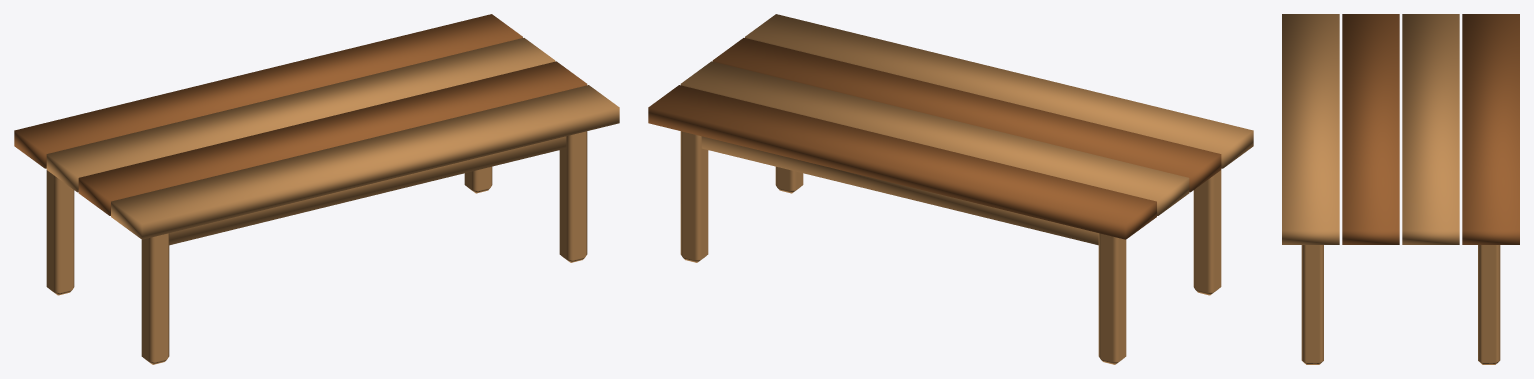
The model's file is table_long.glb.
3 views of the same model, side by side, from view 1: azimuth 30°, elevation 25°; view 2: azimuth 150°, elevation 25°; view 3: azimuth 270°, elevation 25° (orthographic). The views are drawn at different scales.
Visible parts, largest first — view 1: table_long; view 2: table_long; view 3: table_long.
Part boxes in pixels (x1,y1,x2,y2): table_long: (14, 14, 619, 364); table_long: (648, 14, 1253, 364); table_long: (1282, 14, 1519, 364).
Bounding box in the file's own units: 1.6 × 0.5 × 0.742.
